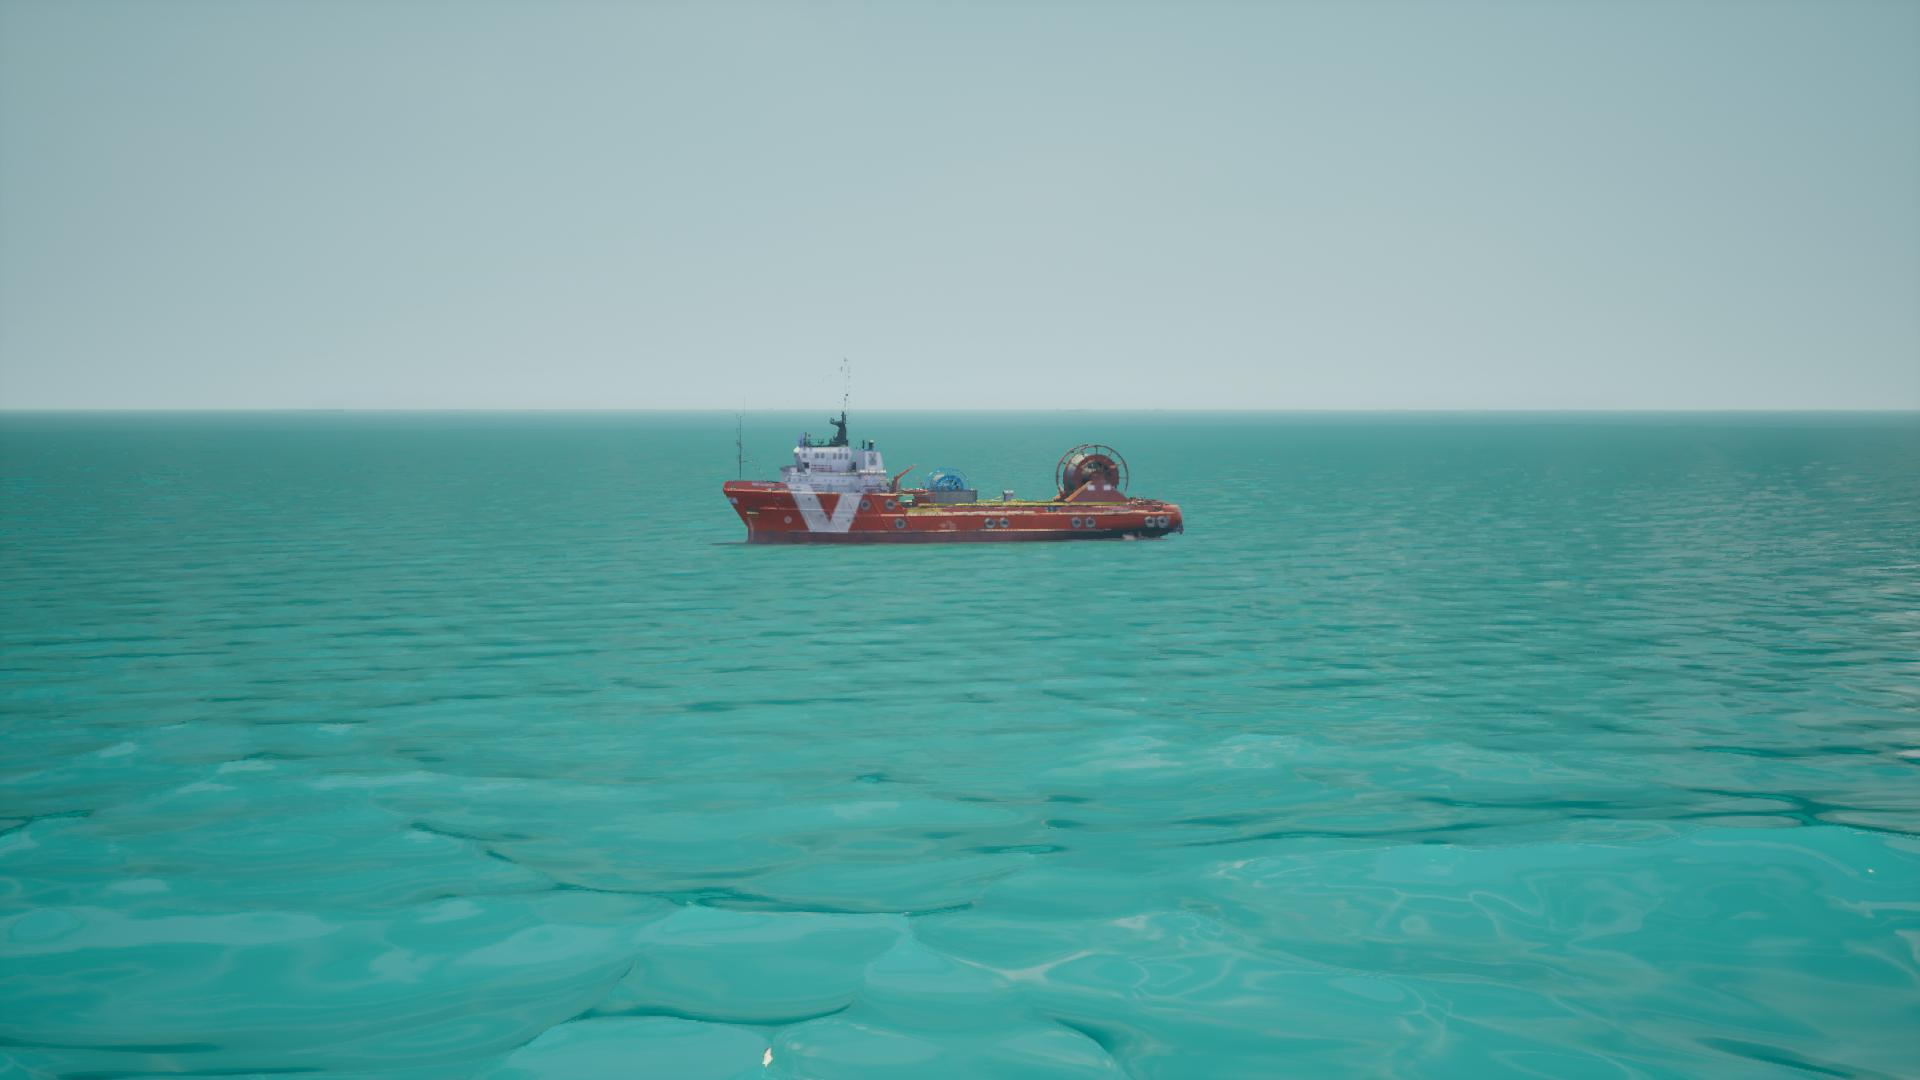Tug Boat: (719, 410, 1180, 550)
